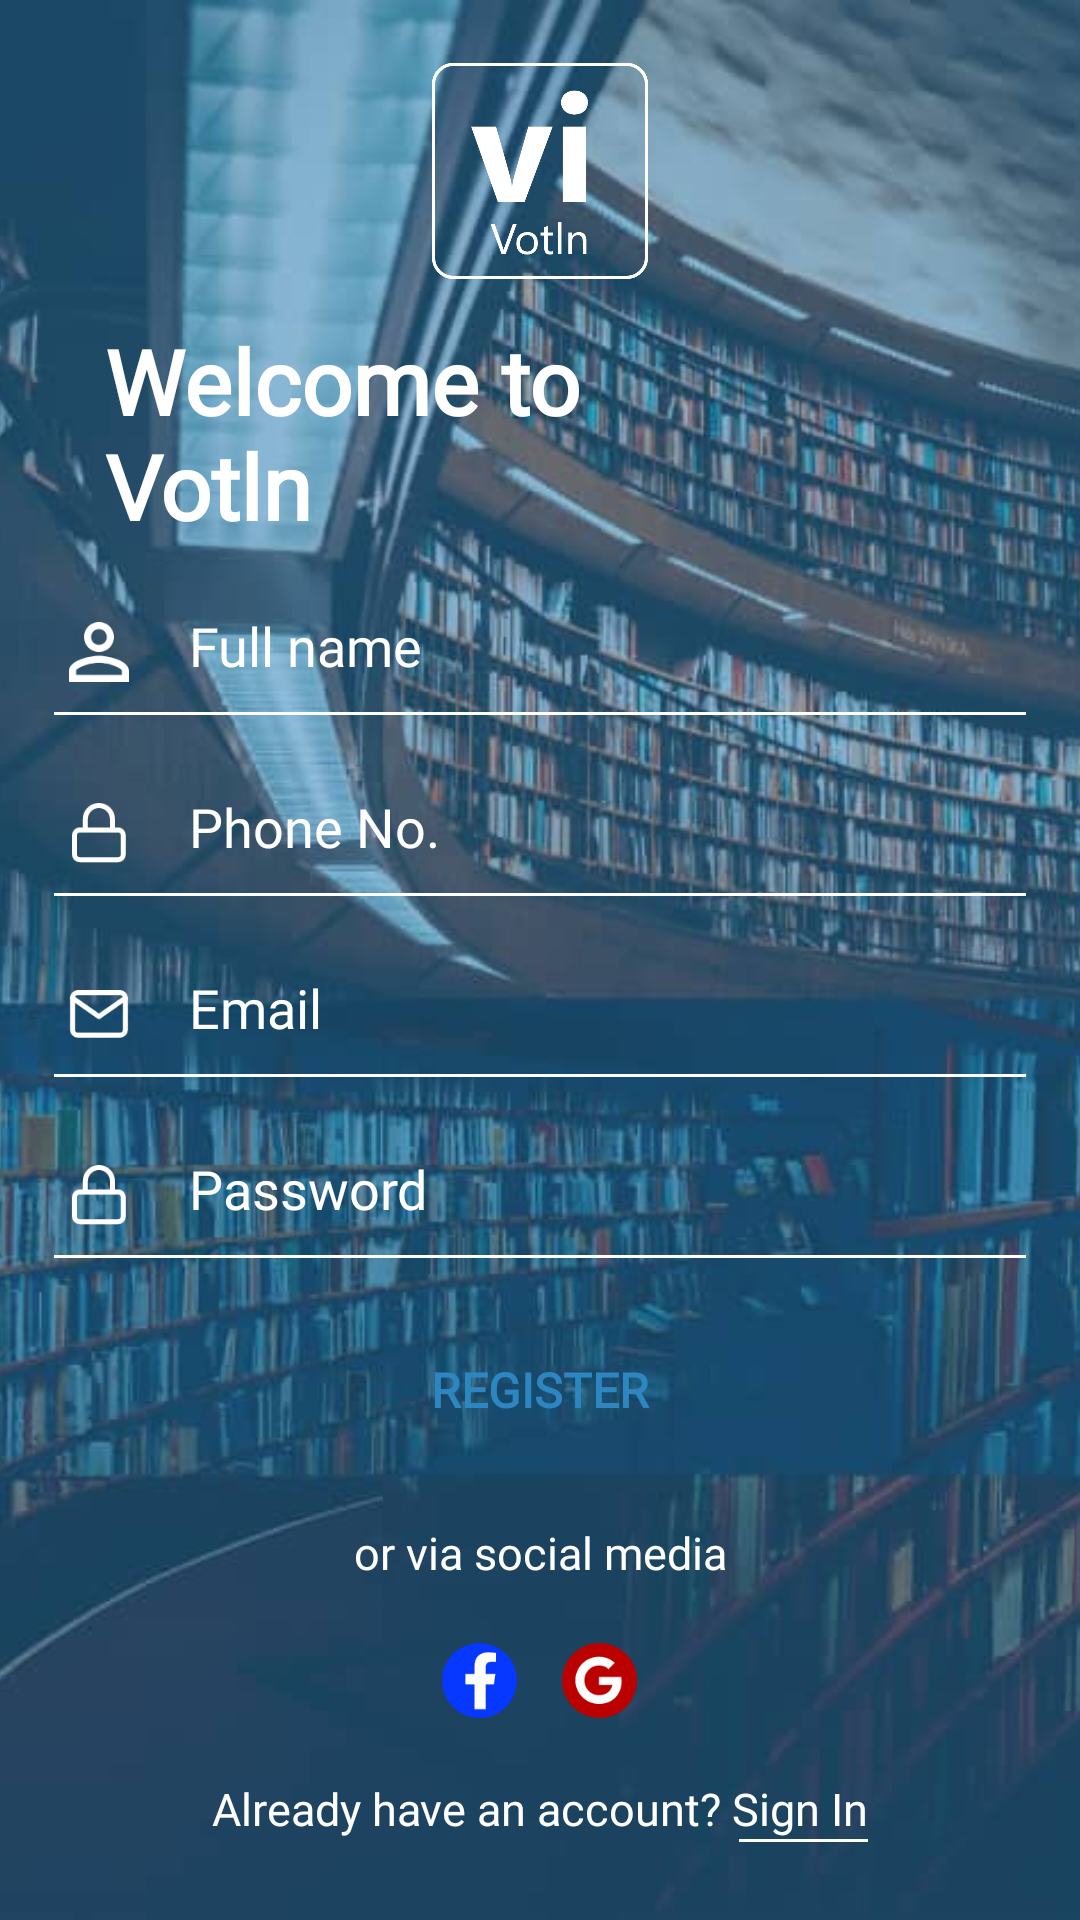

Named icons in this screenshot (1080x1920) and their centers, (x,y):
lock: (99,833), (99,1195)
